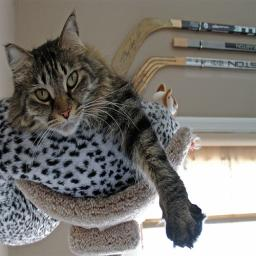catnose: (60, 108, 71, 120)
